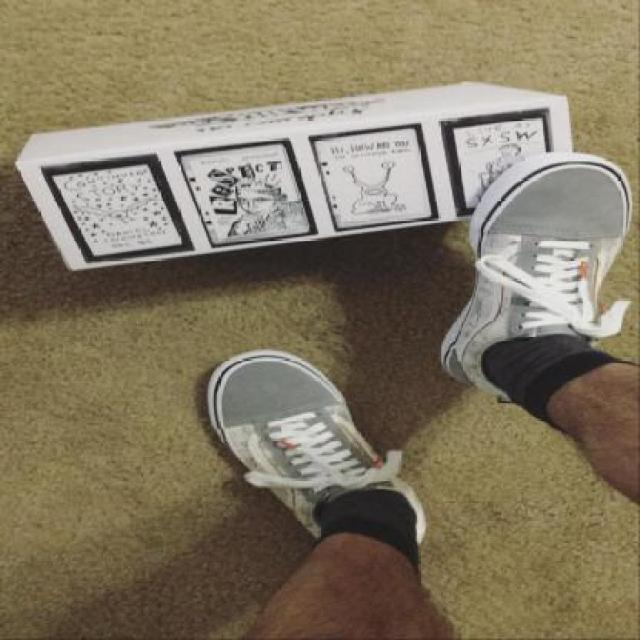shoes: (438, 152, 636, 388), (206, 348, 425, 543)
